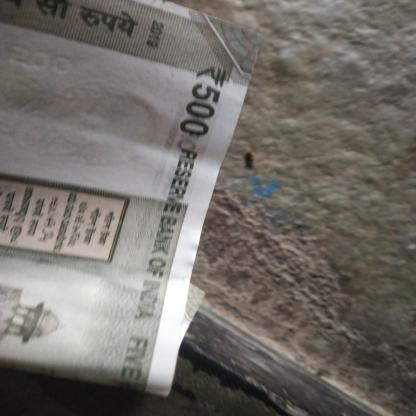New500Back: (0, 0, 224, 391)
